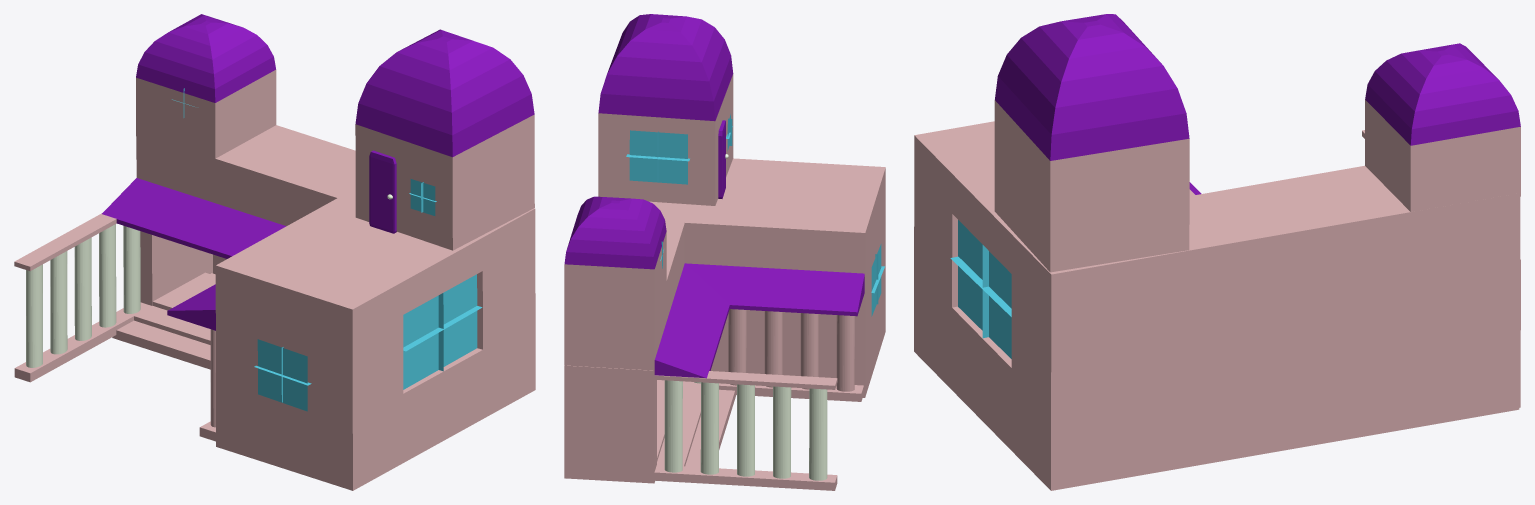
Rendered from Extracteur vigne.fbx.
The picture shows the model from 3 angles, left to right: view 1: azimuth 30°, elevation 25°; view 2: azimuth 150°, elevation 25°; view 3: azimuth 270°, elevation 25°; orthographic projection. The views are drawn at different scales.
Parts seen in each view (by area): view 1: Cube.016; view 2: Cube.016; view 3: Cube.016.
Part boxes in pixels (bbox=[...]): Cube.016: bbox=[14, 14, 535, 490]; Cube.016: bbox=[564, 14, 885, 490]; Cube.016: bbox=[914, 14, 1520, 490].
Size of the model in its own units: 4.41 by 5.09 by 3.93.
